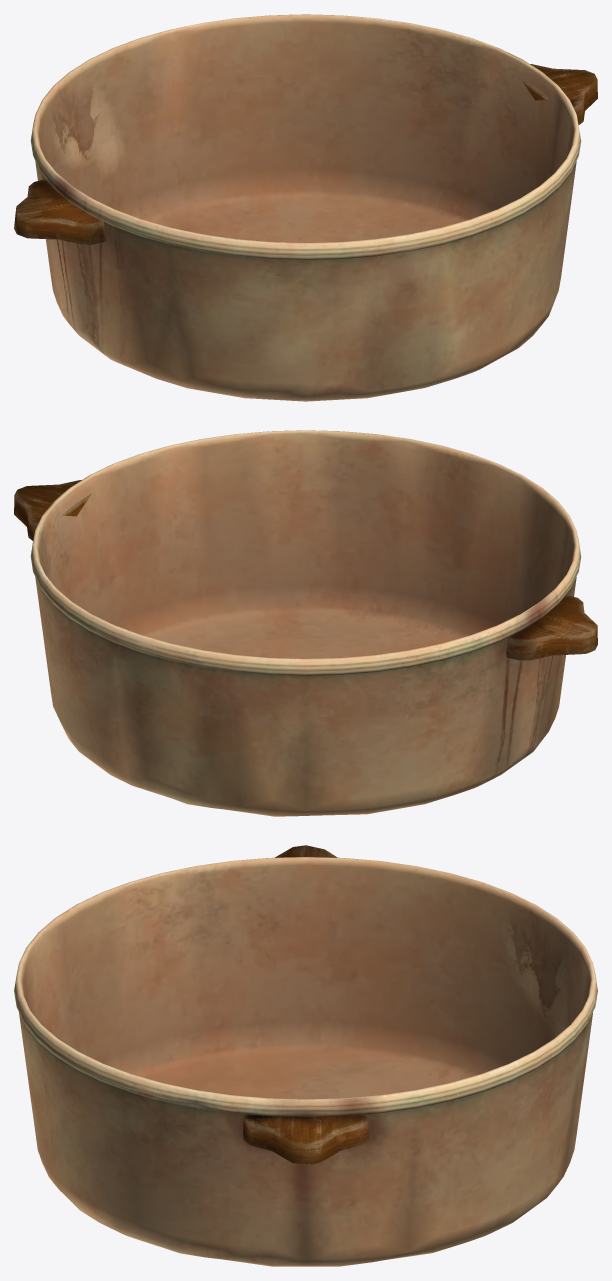
The model's file is brass_pot_02.glb.
3 renders of one model, top to bottom at view 1: azimuth 30°, elevation 25°; view 2: azimuth 150°, elevation 25°; view 3: azimuth 270°, elevation 25°, orthographic. The views are drawn at different scales.
Visible parts, largest first — view 1: brass_pot_02; view 2: brass_pot_02; view 3: brass_pot_02.
Boxes of the visible parts, <box> form: brass_pot_02: <box>14,14,597,401</box>; brass_pot_02: <box>14,430,597,816</box>; brass_pot_02: <box>14,845,597,1266</box>.
Bounding box in the file's own units: 0.3663 × 0.1083 × 0.3023.
1 material, 1 textured.
